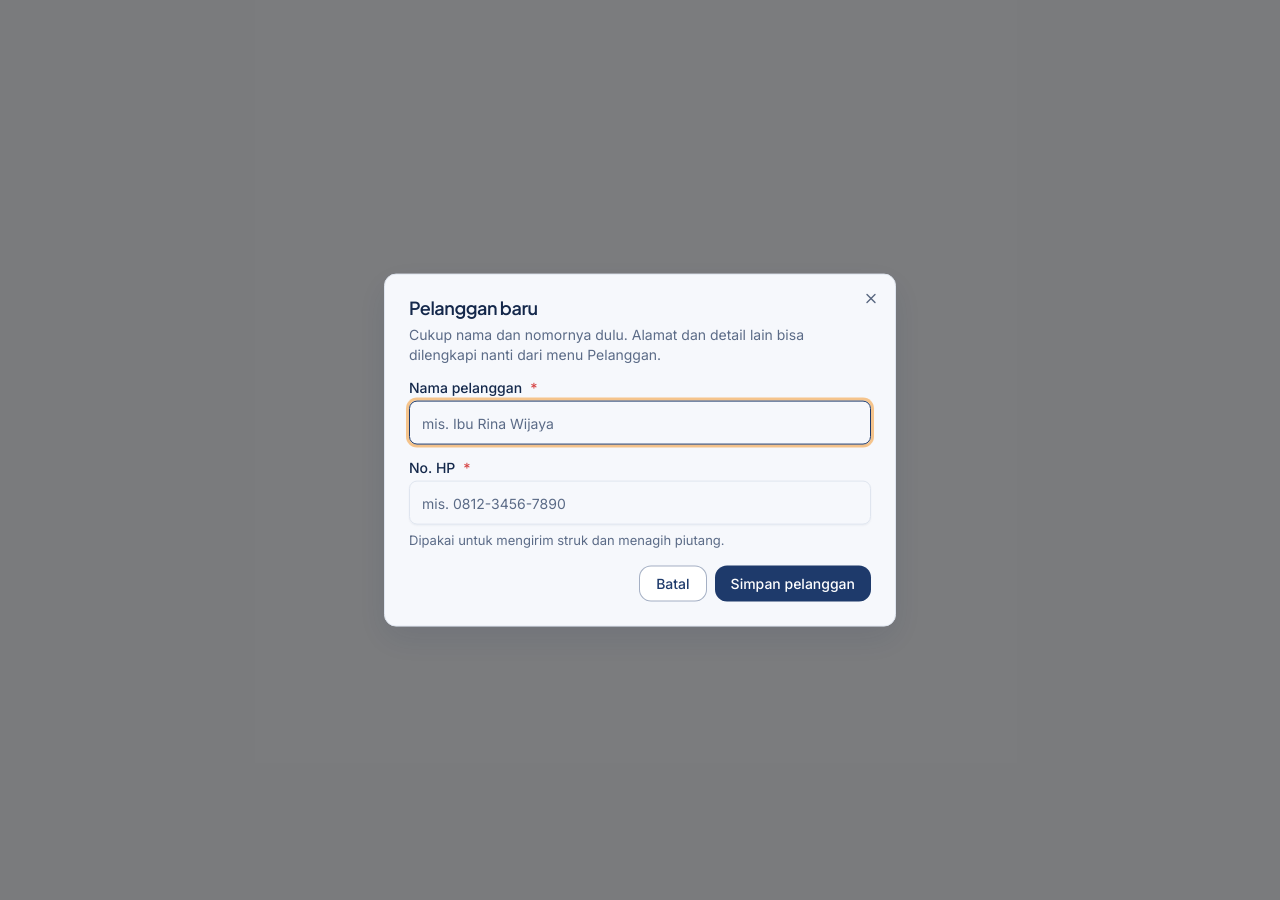
Test case: CustomerQuickAddDialog › requires both fields — a till debtor with no number cannot be chased
This screenshot has width=1280, height=900.
Step 1. Click the button "Simpan pelanggan" → coordinates (793, 583), box [715, 565, 871, 601]
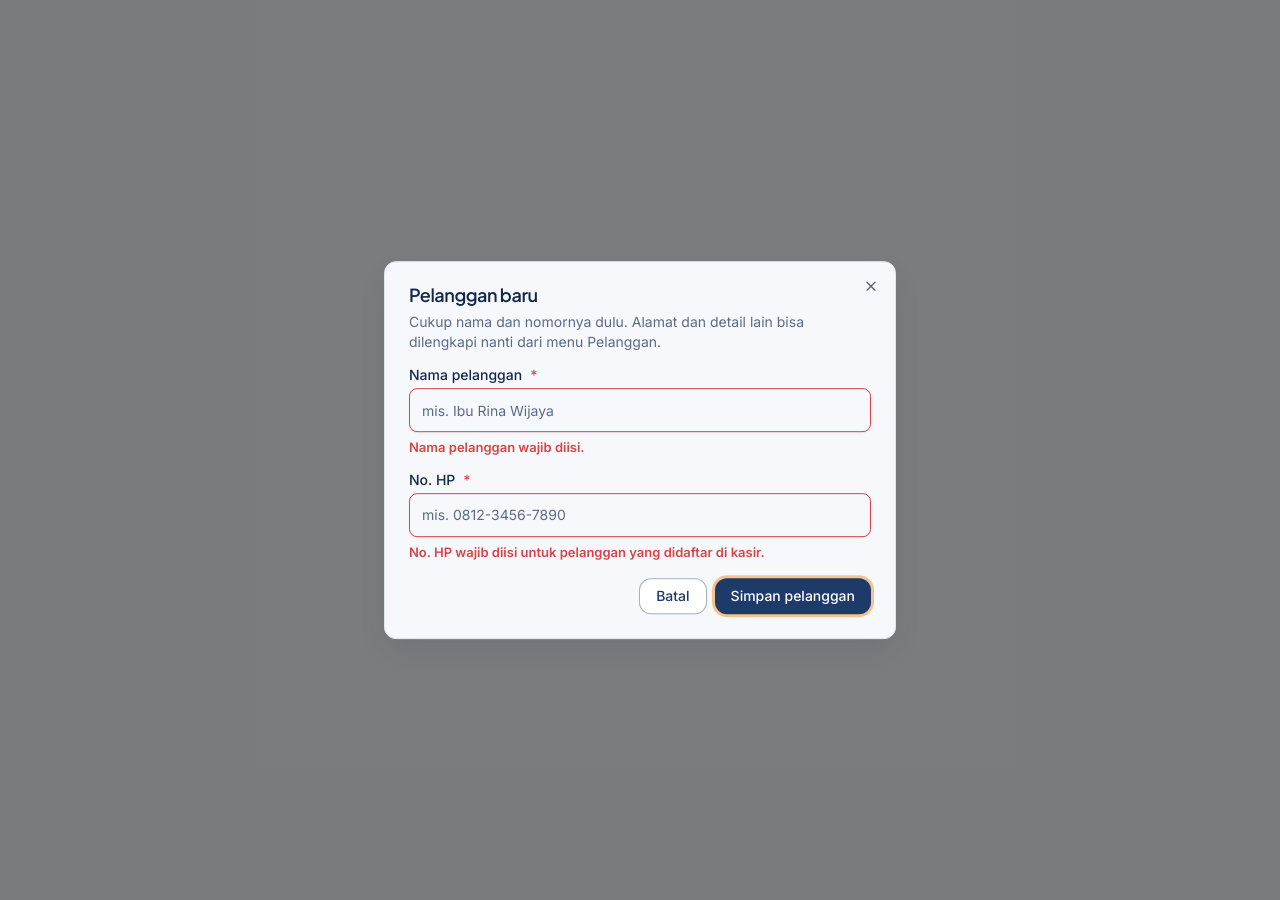
Now the text "Nama pelanggan wajib diisi." is shown, box [409, 439, 584, 455]
Now the text "No. HP wajib diisi untuk pelanggan yang didaftar di kasir." is shown, box [409, 544, 765, 560]
